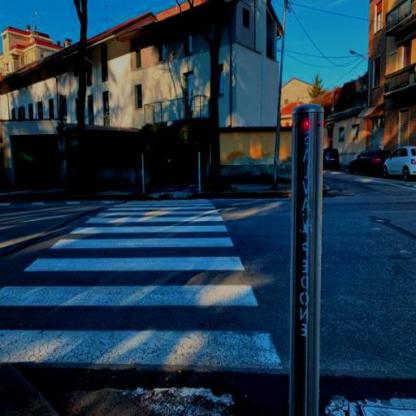crosswalk: (1, 282, 287, 377), (18, 236, 250, 274), (83, 207, 225, 226)
